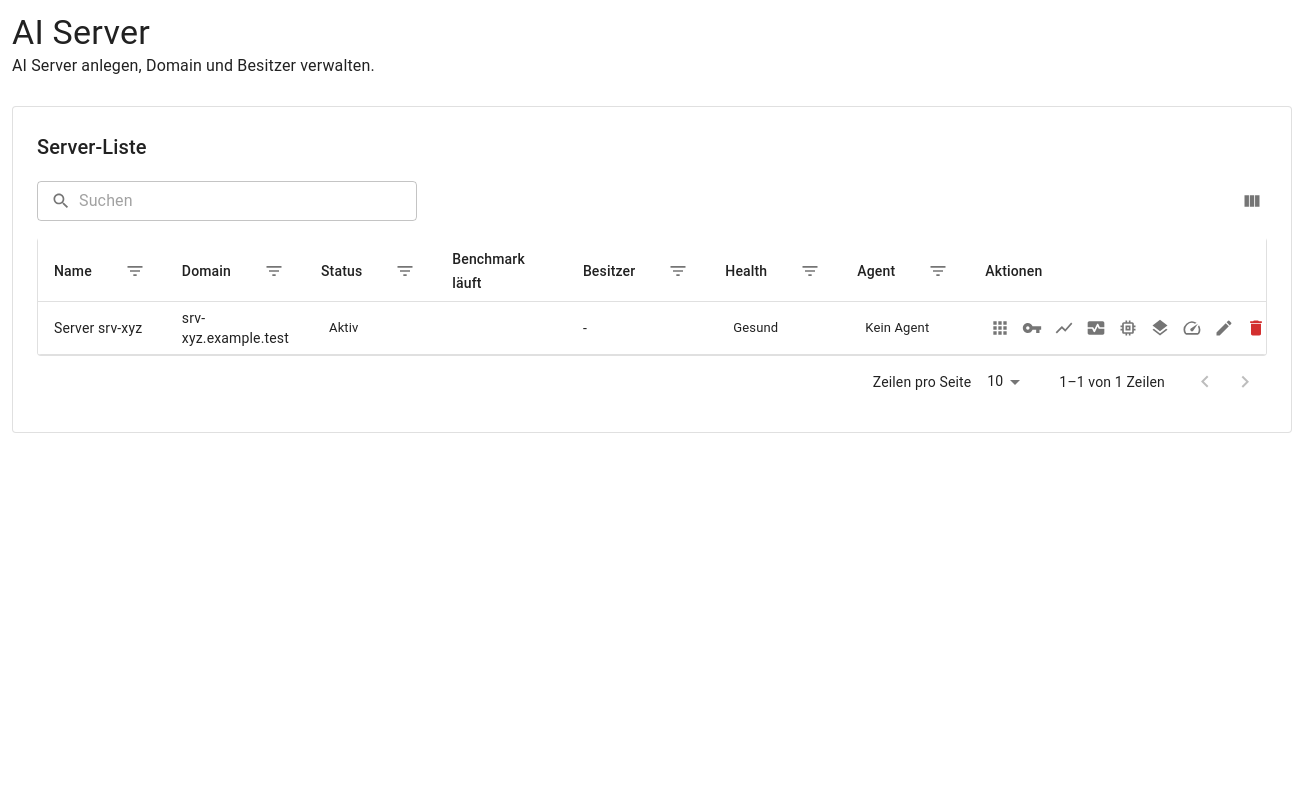
Scenario: ServerList Server-ID column › is optional (hidden by default) and renders the raw server id once enabled
// Enable it via the column-visibility menu (target the checkbox unambiguously).
Click the button named "Spalten". click: (1252, 201)
box: [1237, 186, 1267, 216]
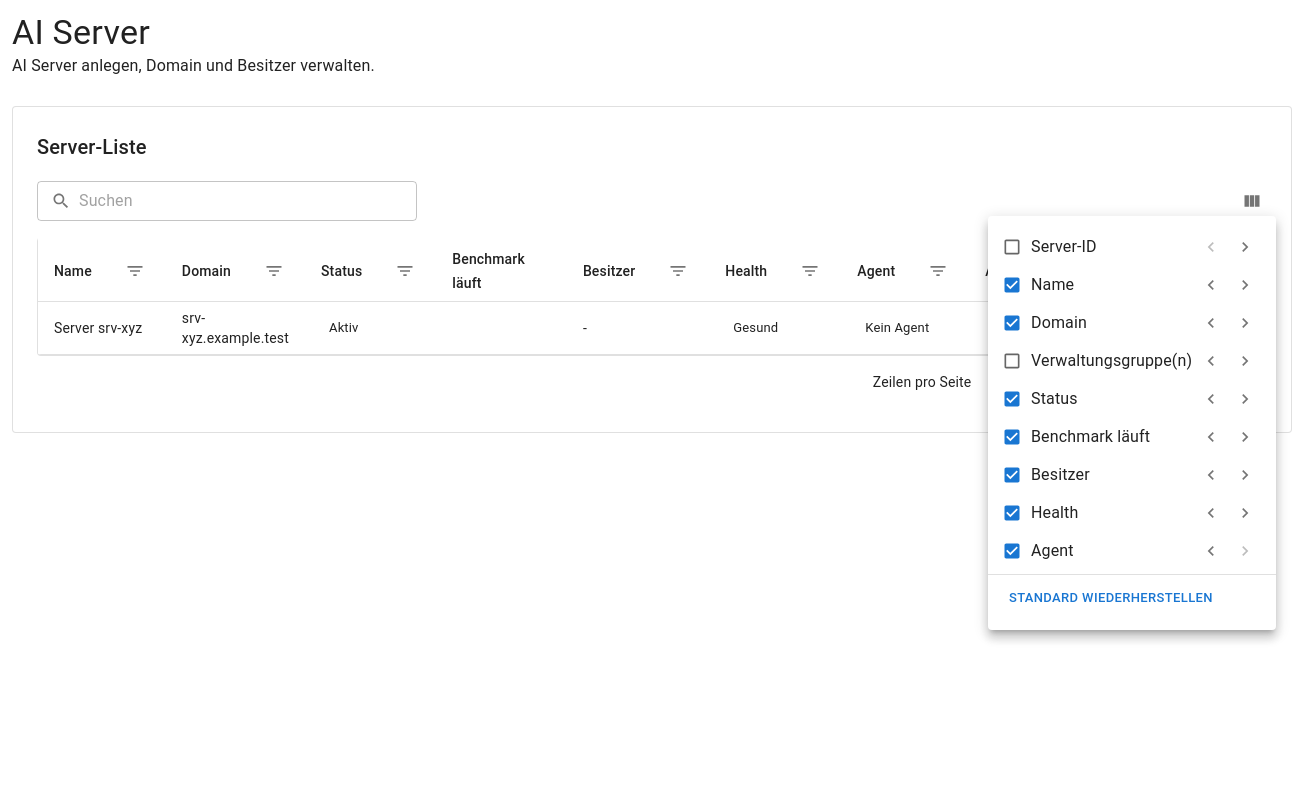
Click the checkbox labelled "Server-ID". click: (1049, 247)
box: [1002, 237, 1097, 257]
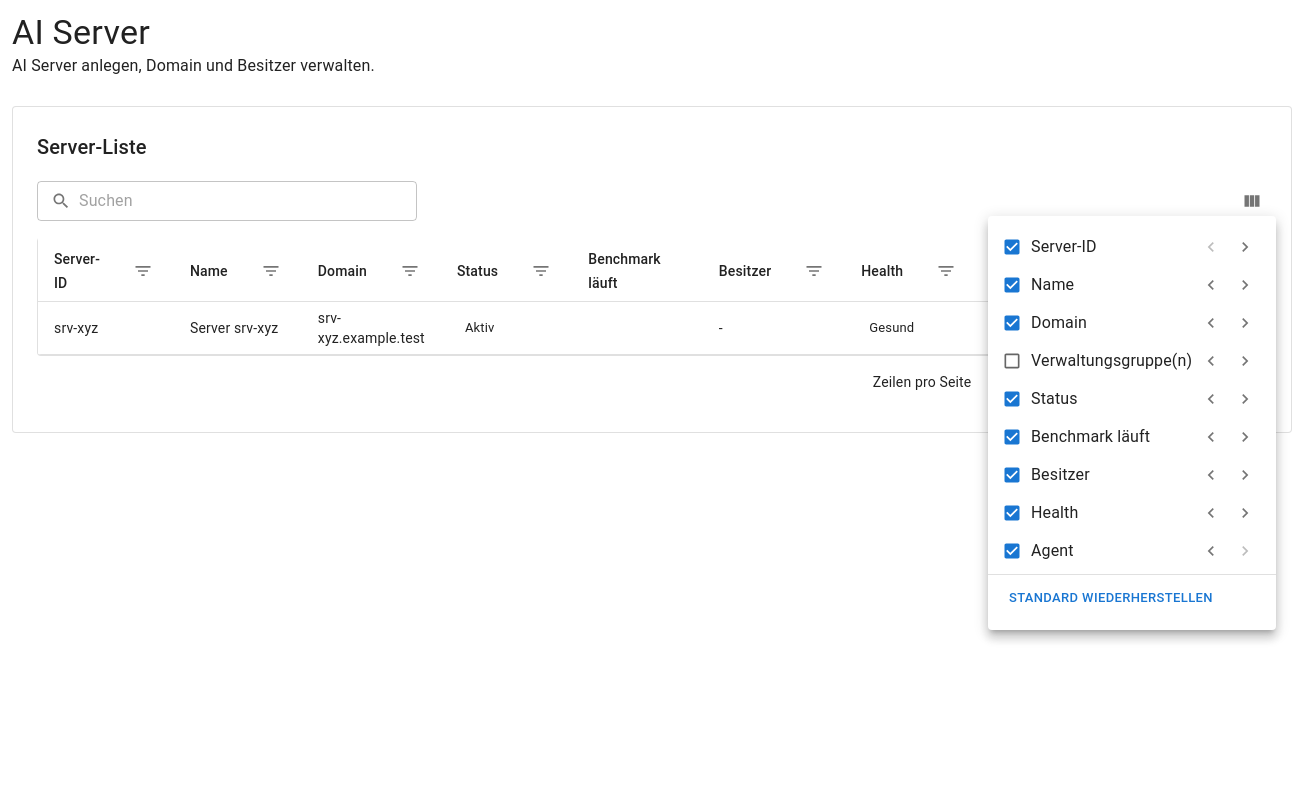
Expected: the text "srv-xyz" is shown, [38, 302, 174, 354]
